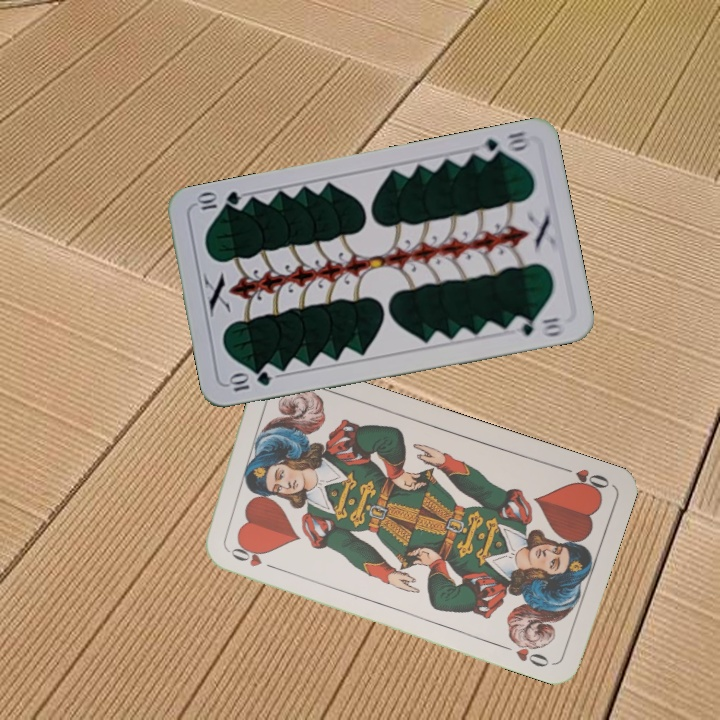G10: (473, 127, 533, 163), (225, 368, 274, 394)
HO: (556, 462, 612, 496), (223, 543, 280, 572)
